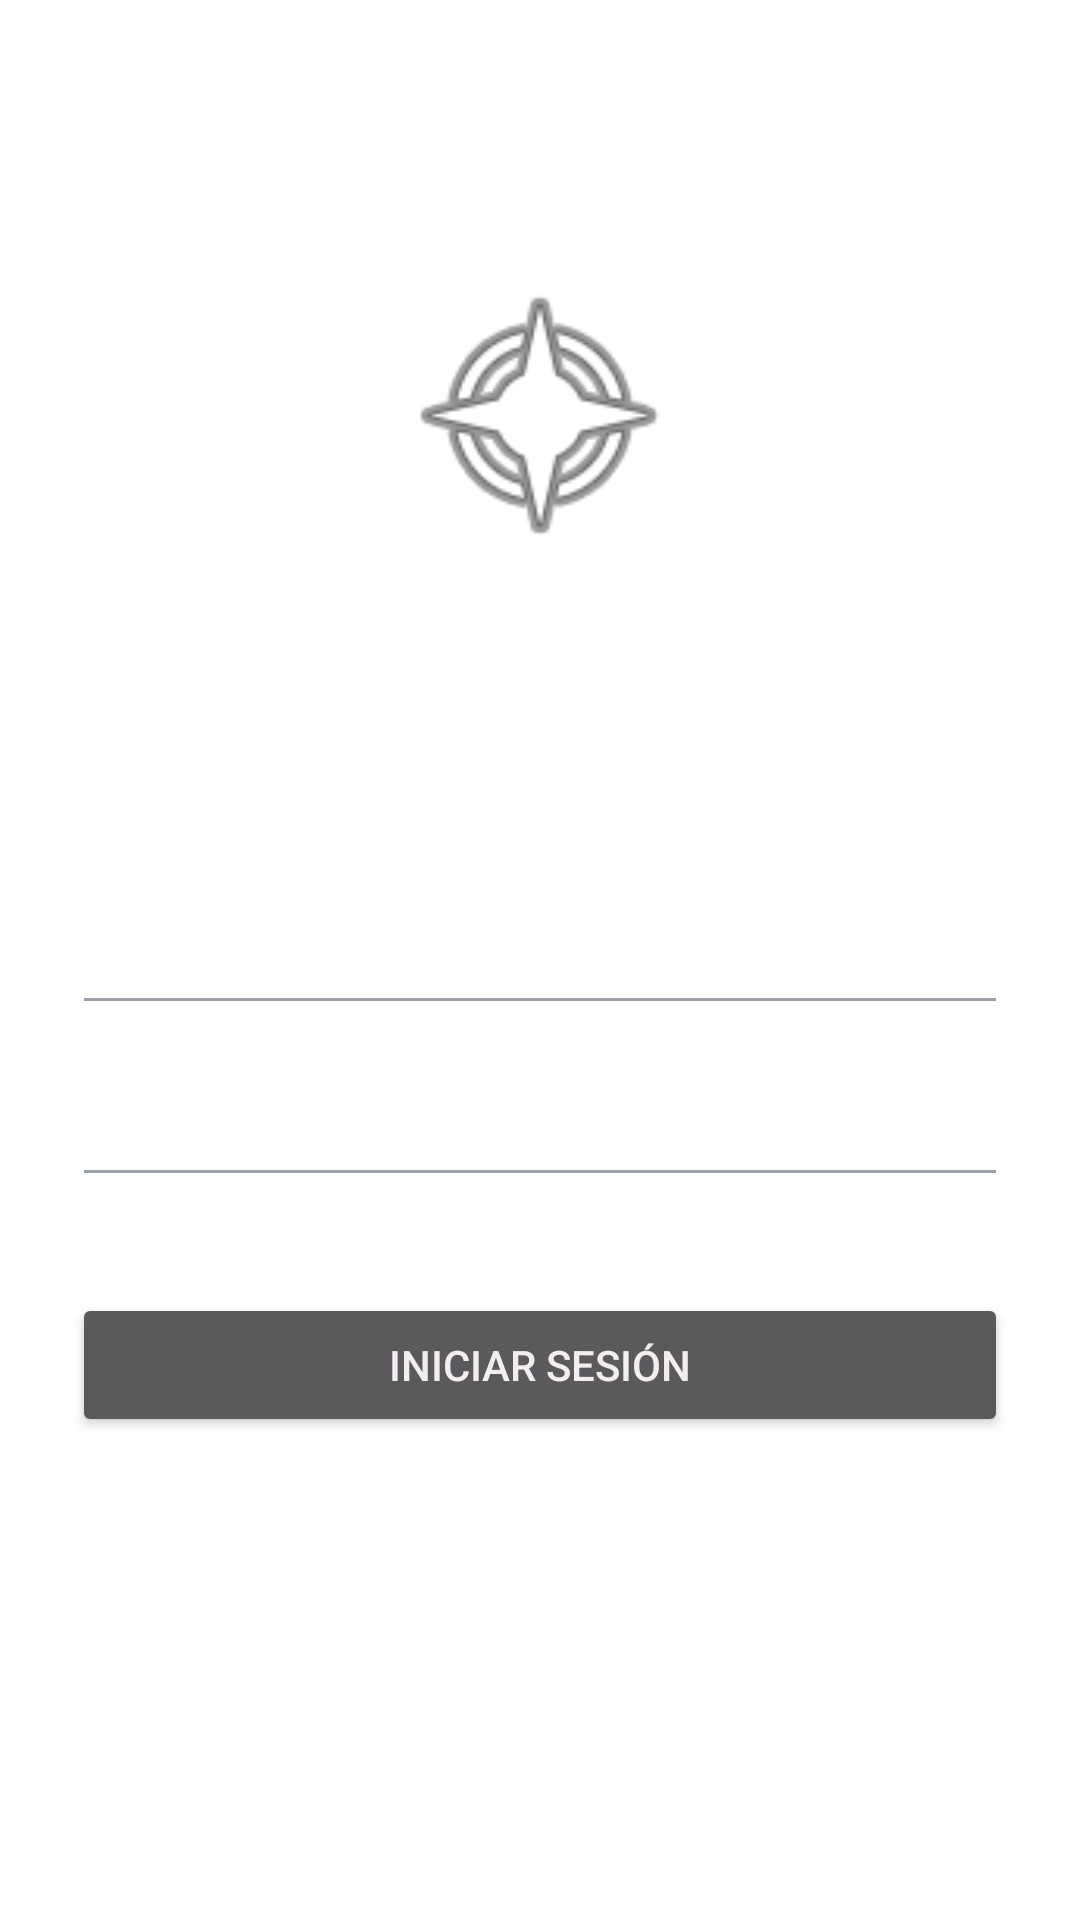

Where icons sit on this 1080×1920 app screen, as (x1, y1, x2, y2):
compass: (420, 297, 658, 534)
